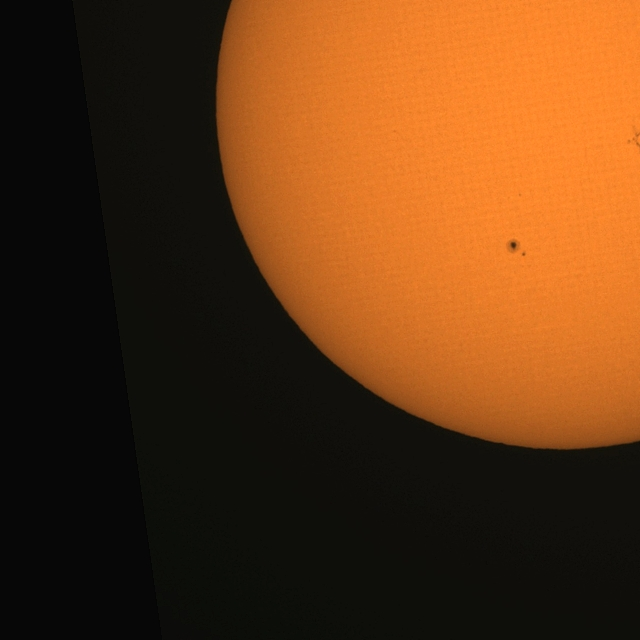sunspot: (506, 239, 526, 257), (626, 125, 640, 149), (518, 192, 522, 198)
